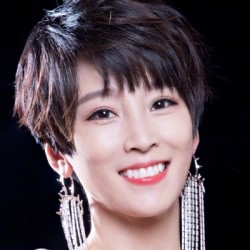unmask: (54, 55, 199, 220)
